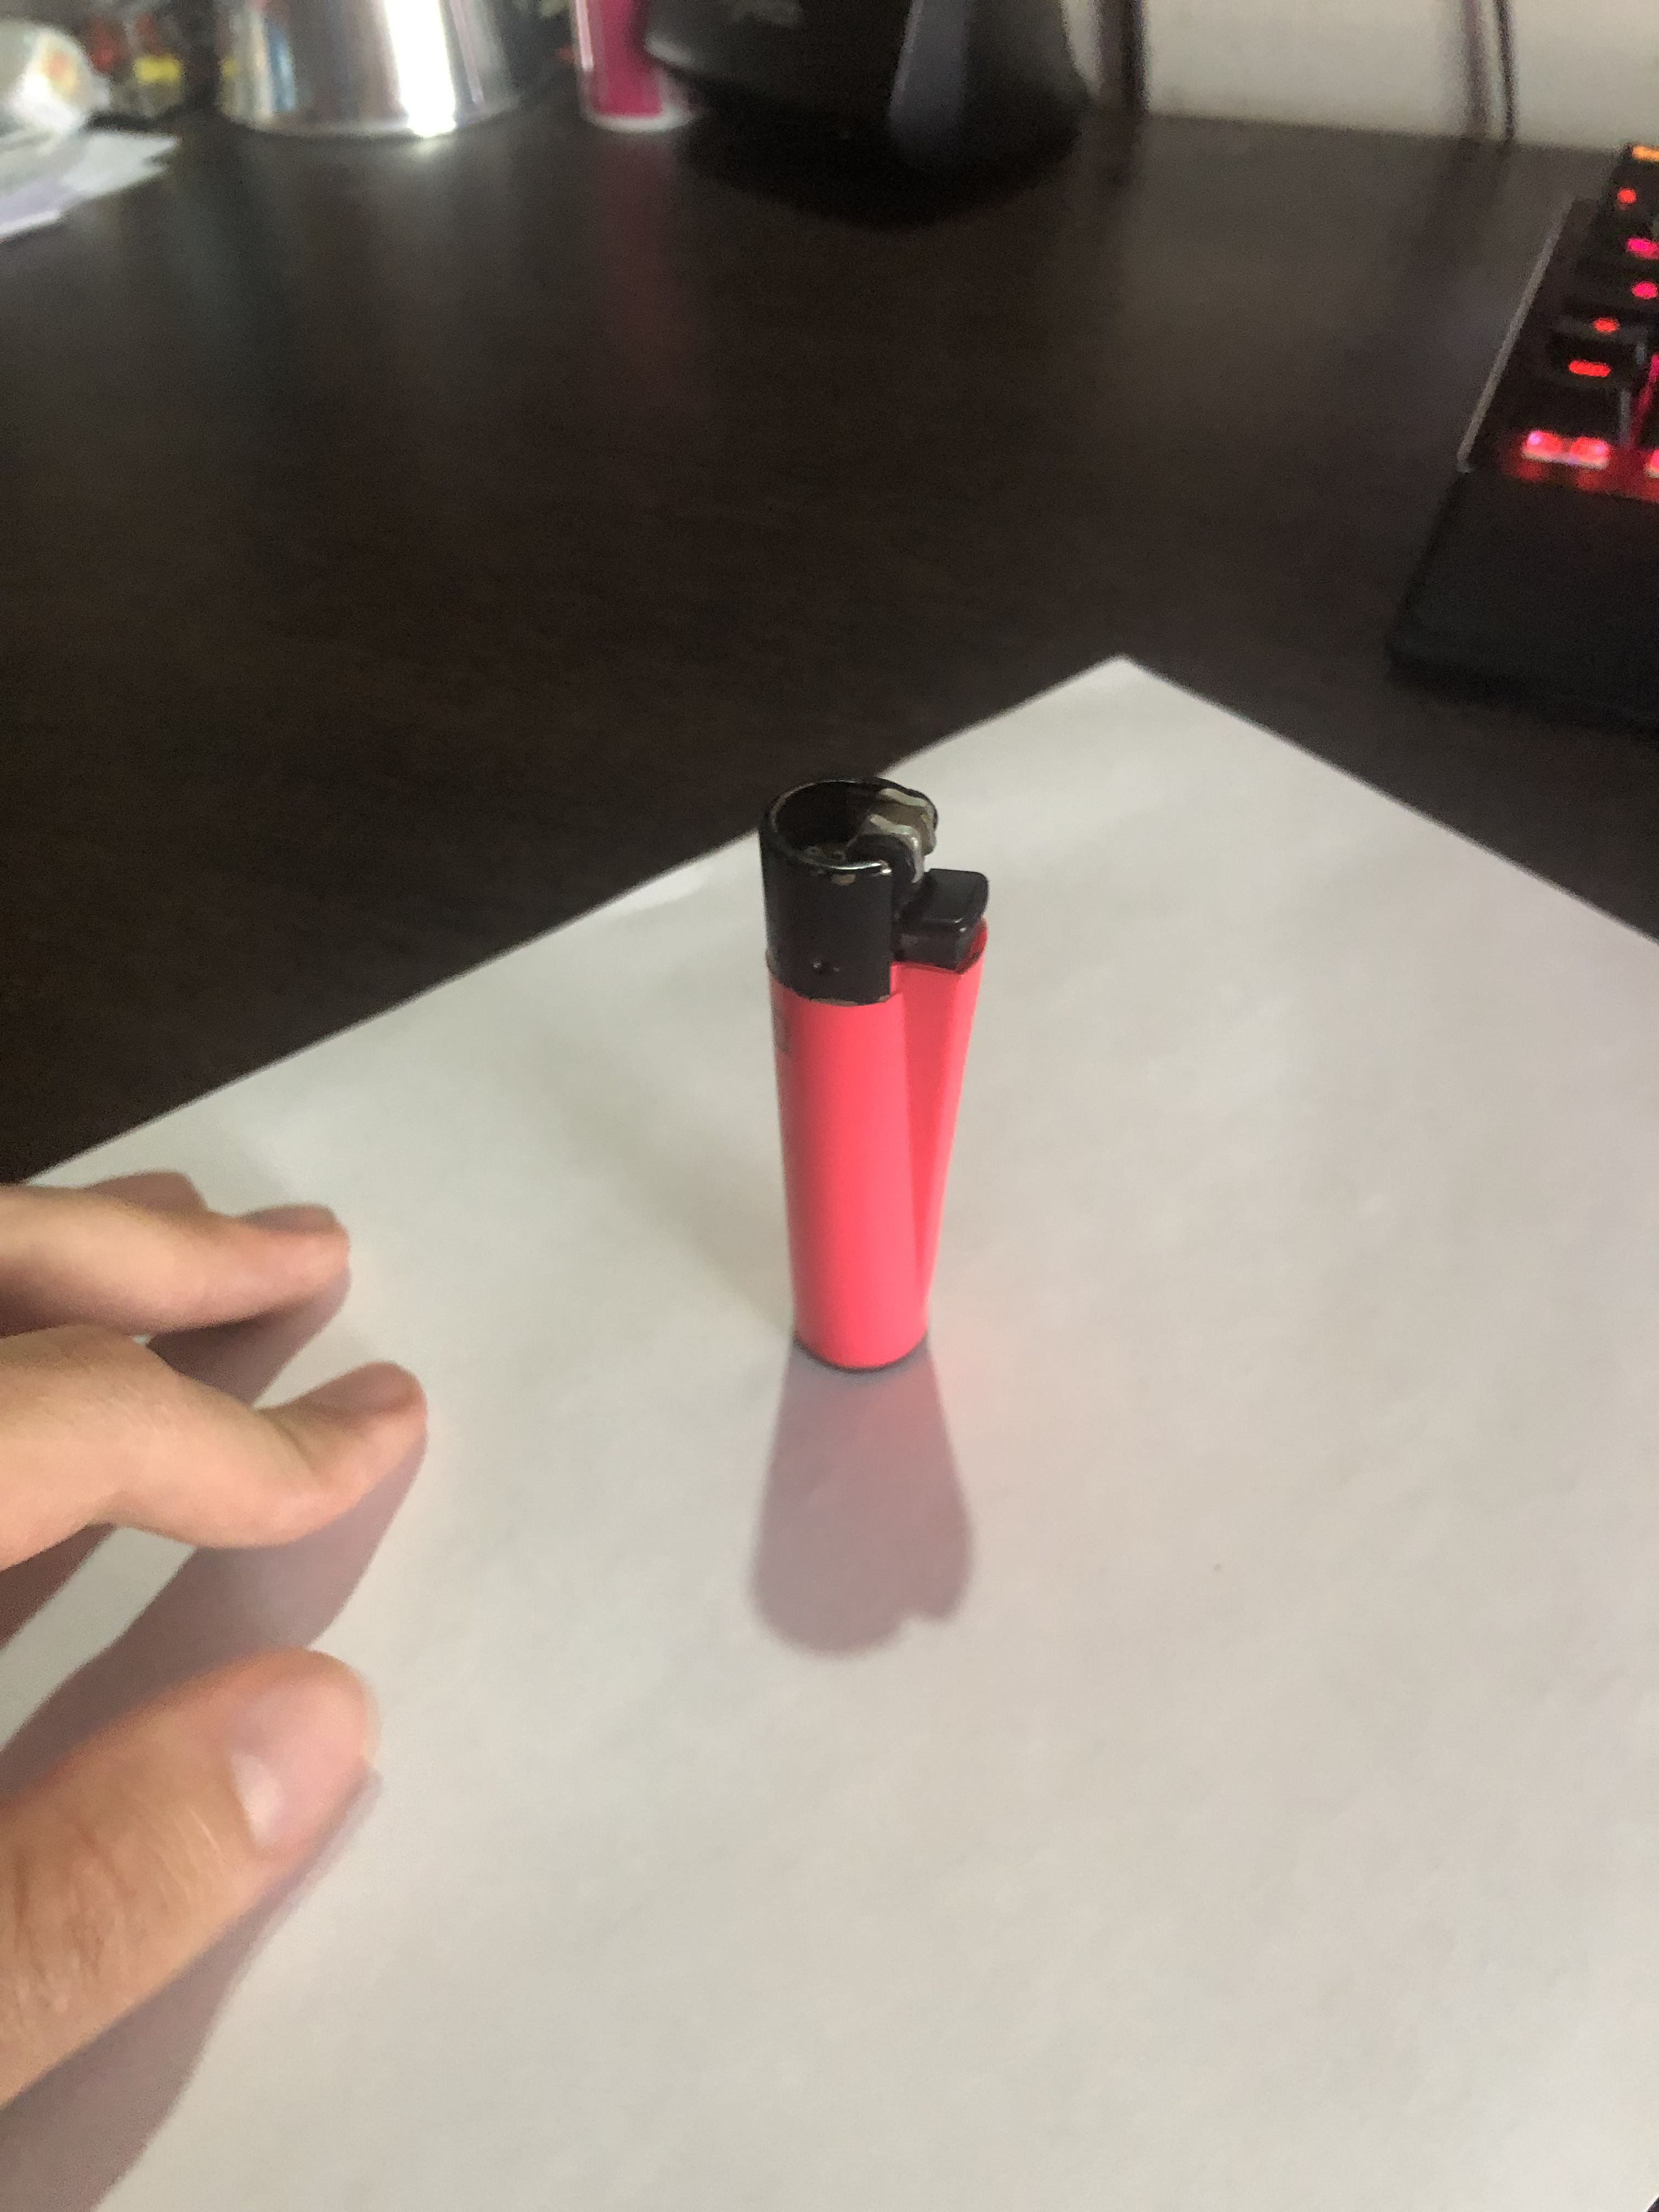Mechero: (735, 761, 1007, 1386)
